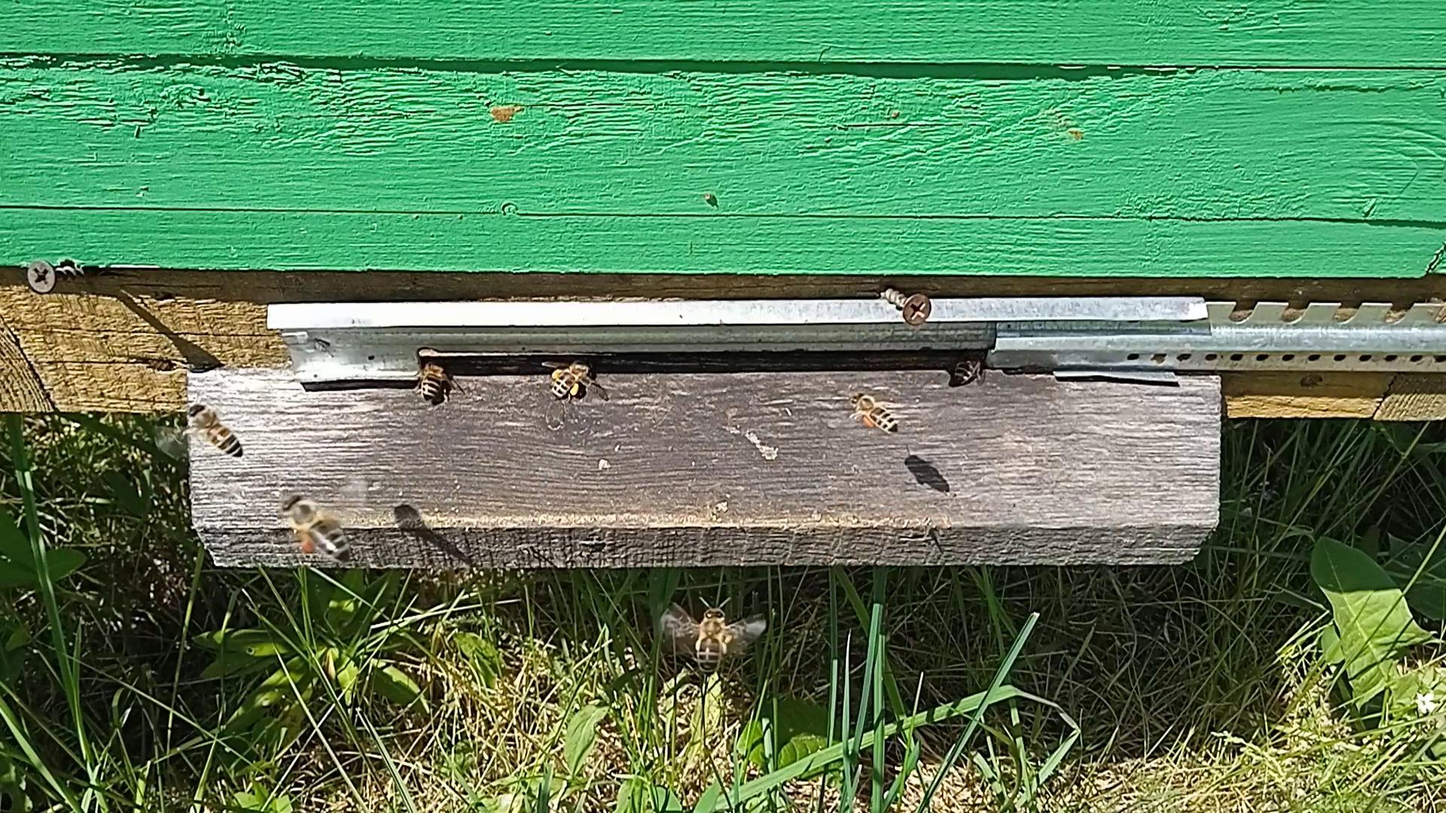worker-bee: (283, 495, 352, 560), (187, 403, 245, 458), (693, 604, 732, 676), (849, 390, 898, 434), (549, 358, 596, 400), (415, 358, 451, 402), (950, 350, 987, 385)
